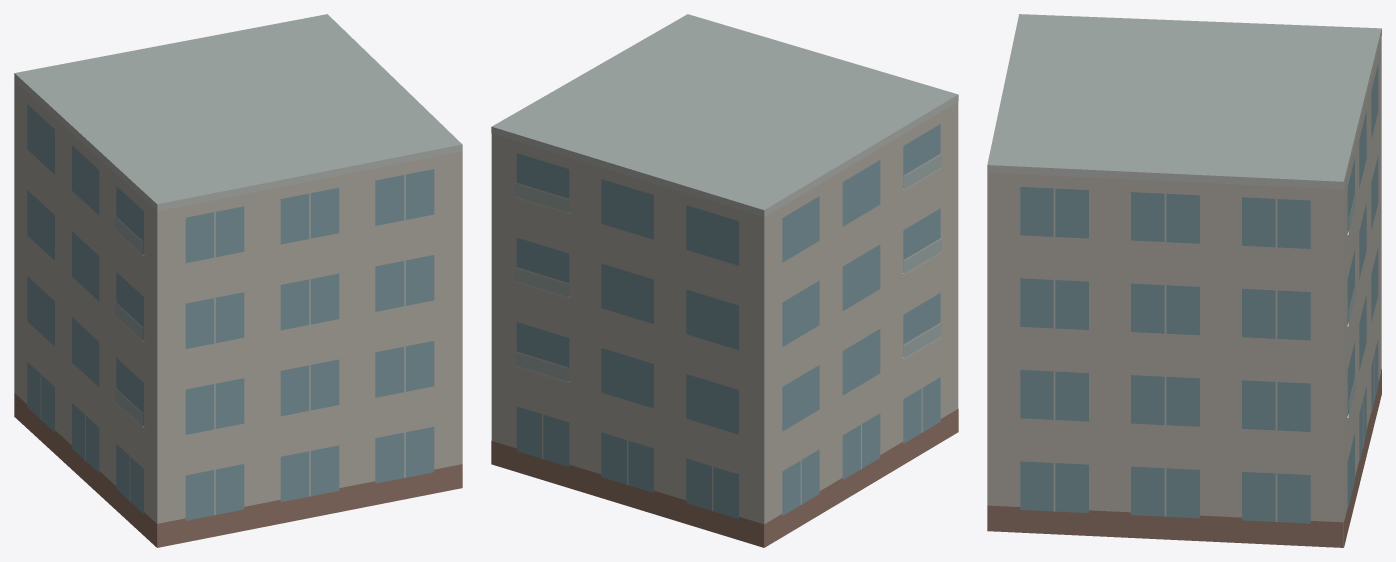
File: survey-upis-32753848.glb
The picture shows the model from 3 angles, left to right: view 1: azimuth 30°, elevation 25°; view 2: azimuth 150°, elevation 25°; view 3: azimuth 270°, elevation 25°; orthographic projection. The views are drawn at different scales.
Parts seen in each view (by area): view 1: survey-upis-32753848.tmp; view 2: survey-upis-32753848.tmp; view 3: survey-upis-32753848.tmp.
Part boxes in pixels (left/top/right/bottom): survey-upis-32753848.tmp: left=14, top=14, right=462, bottom=547; survey-upis-32753848.tmp: left=491, top=14, right=958, bottom=547; survey-upis-32753848.tmp: left=987, top=14, right=1381, bottom=547.
Bounding box in the file's own units: 11.61 × 11.8 × 11.53.
